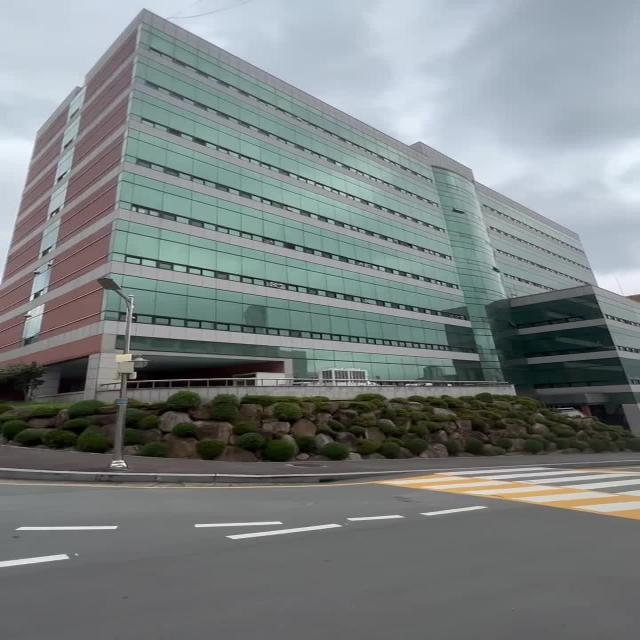building: (0, 38, 532, 390)
